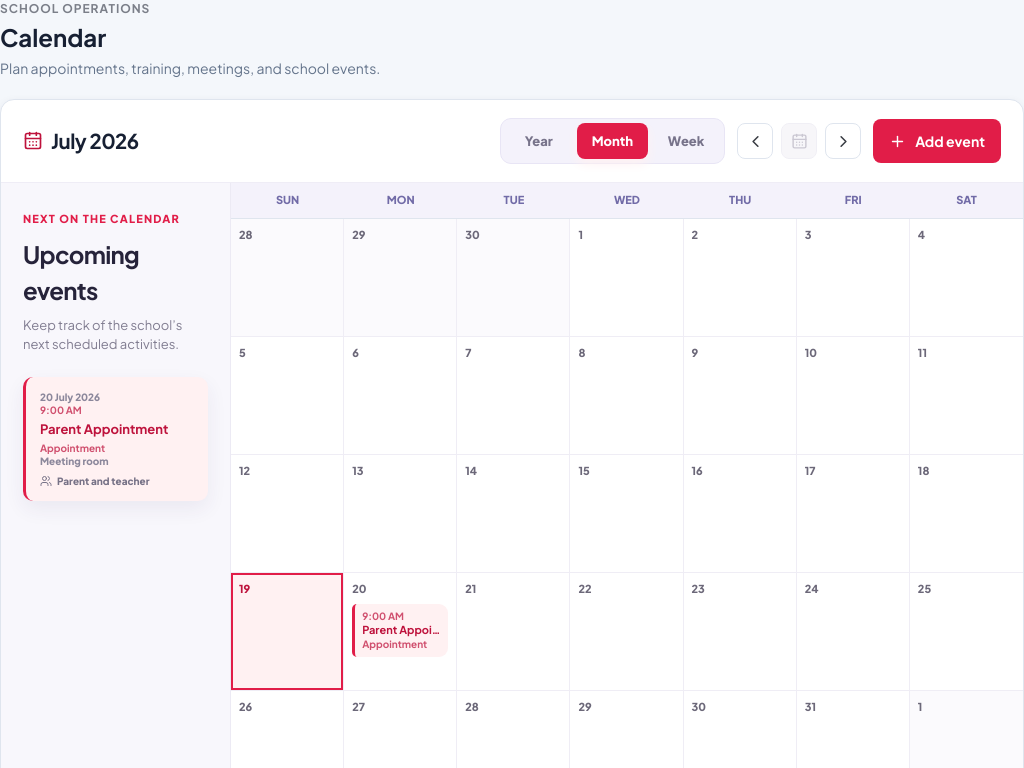
Test: CalendarPage › removes the sole visible event when an edit moves it outside the visible range
This screenshot has width=1024, height=768.
Click the button "9:00 AM Parent Appointment Appointment".
click(400, 631)  # box [352,604,448,657]
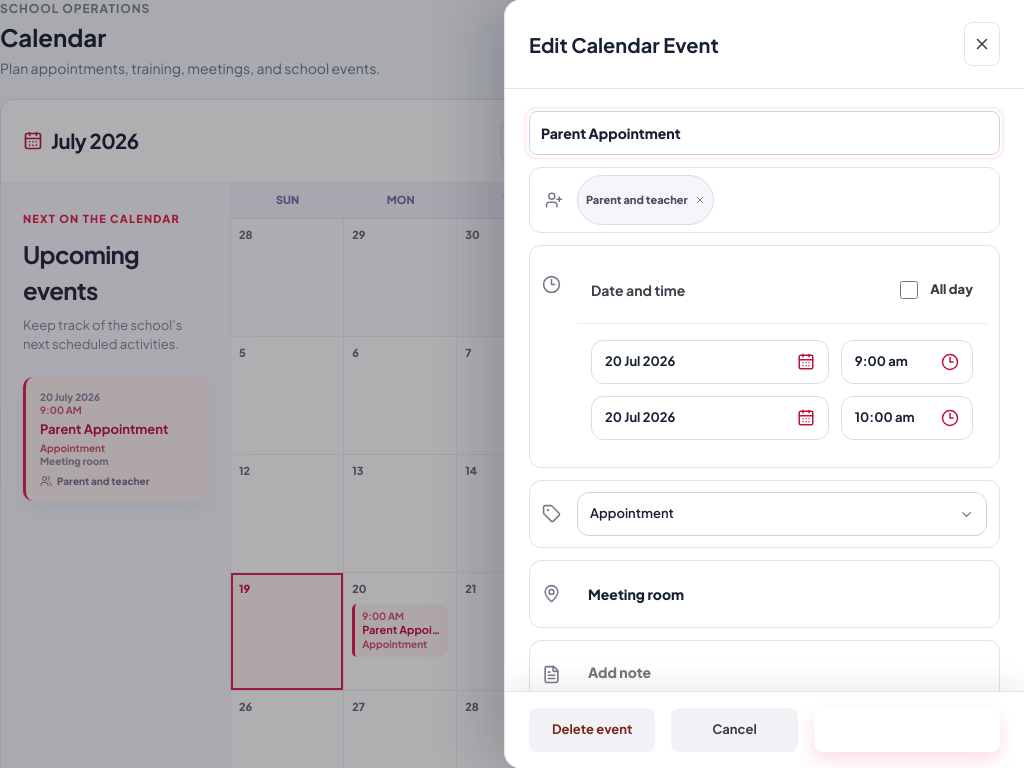
Click the button with aria-label "Start date".
click(710, 362)  # box [591,340,829,384]
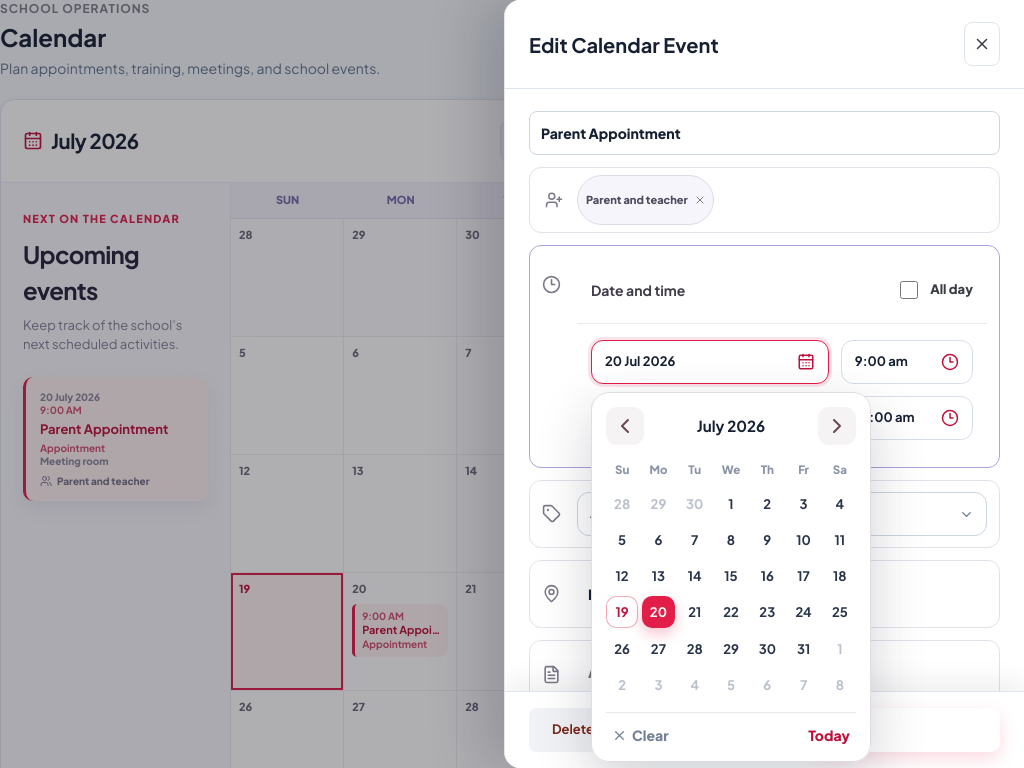
Click the button named "Next month".
click(837, 426)  # box [818,407,856,445]
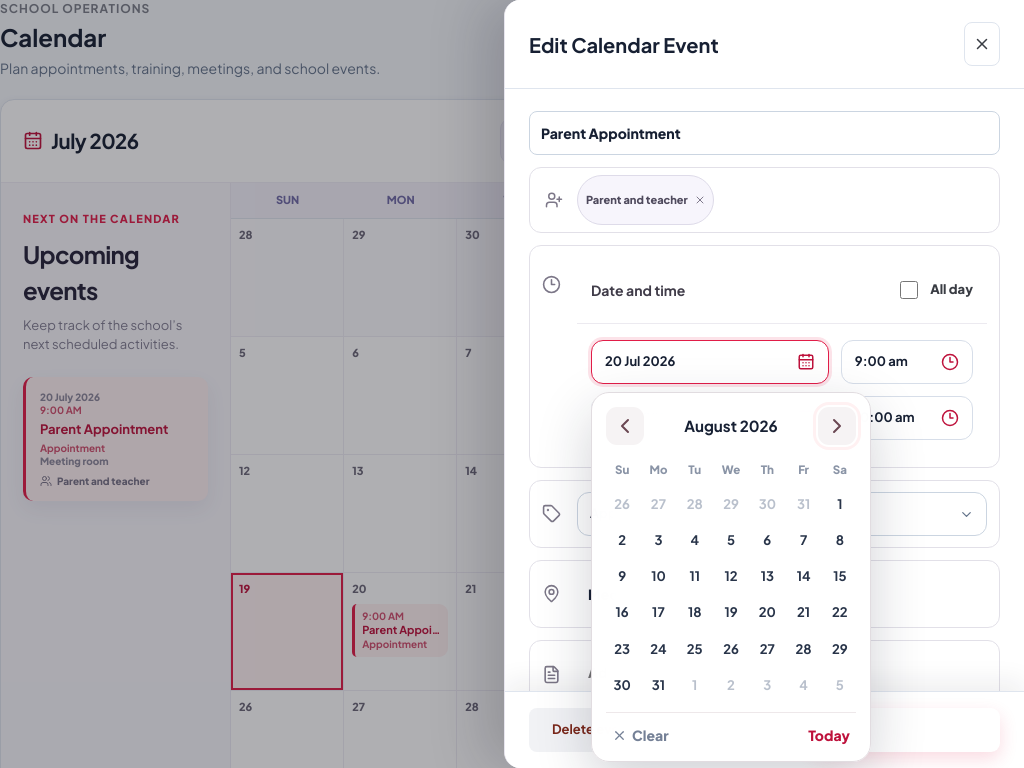
Click the button named "Next month".
click(837, 426)  # box [818,407,856,445]
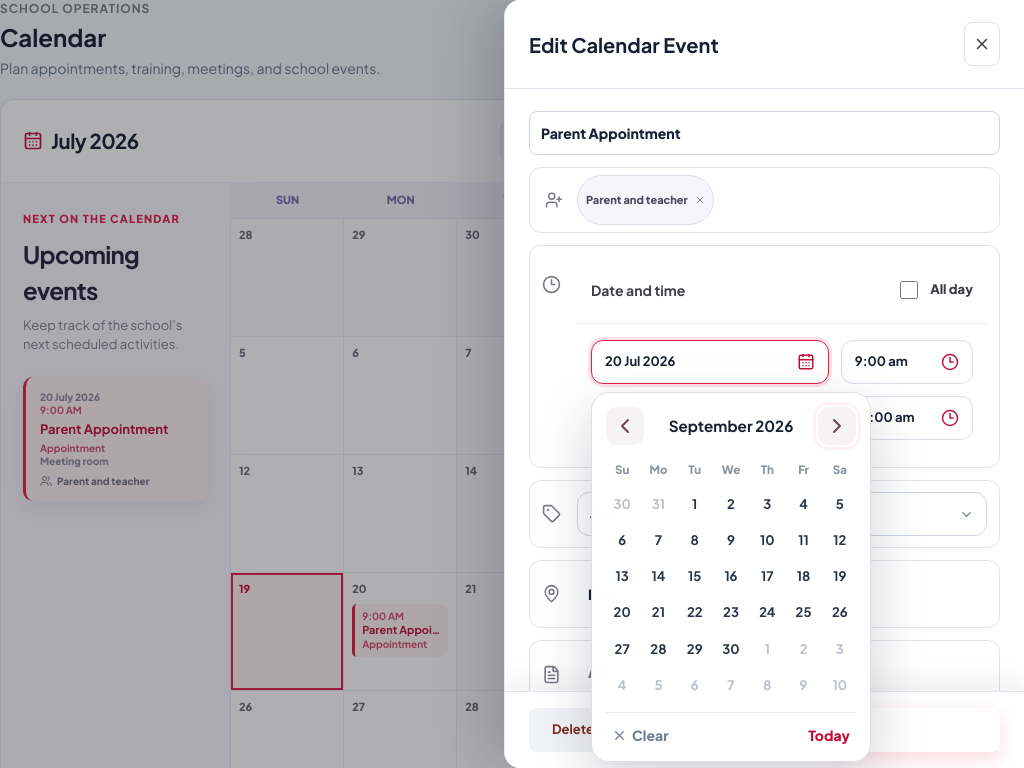
Click the button named "30 September 2026".
click(731, 649)  # box [715,632,747,665]
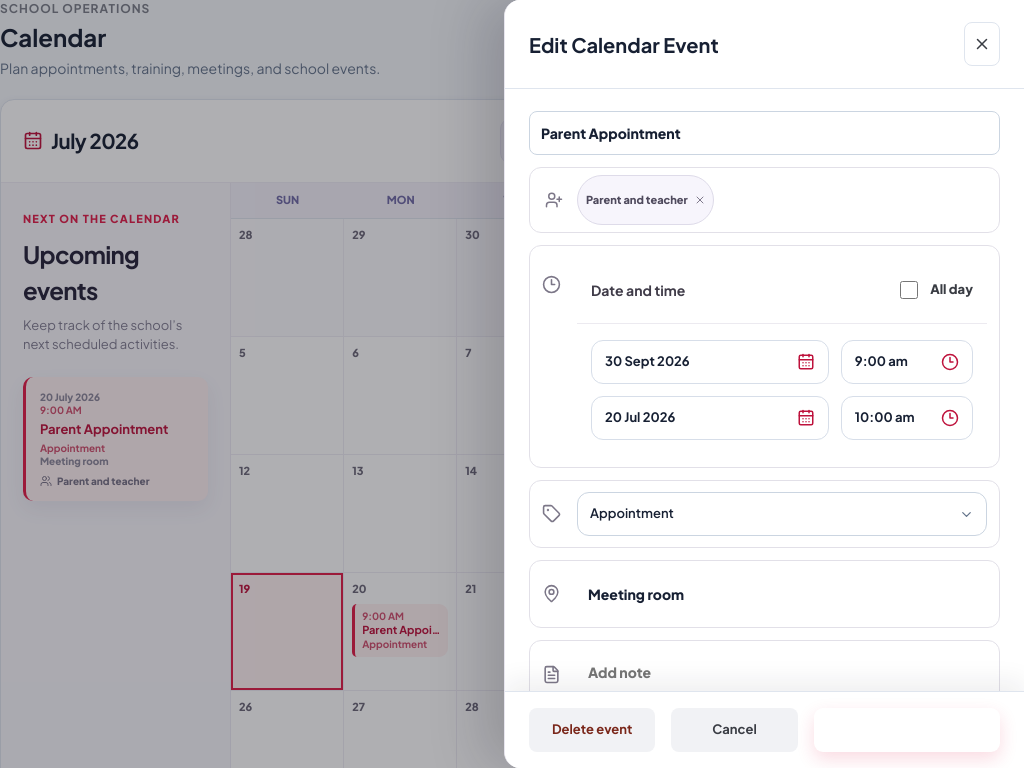
Click the button "Save changes".
click(907, 730)  # box [814,708,1000,752]
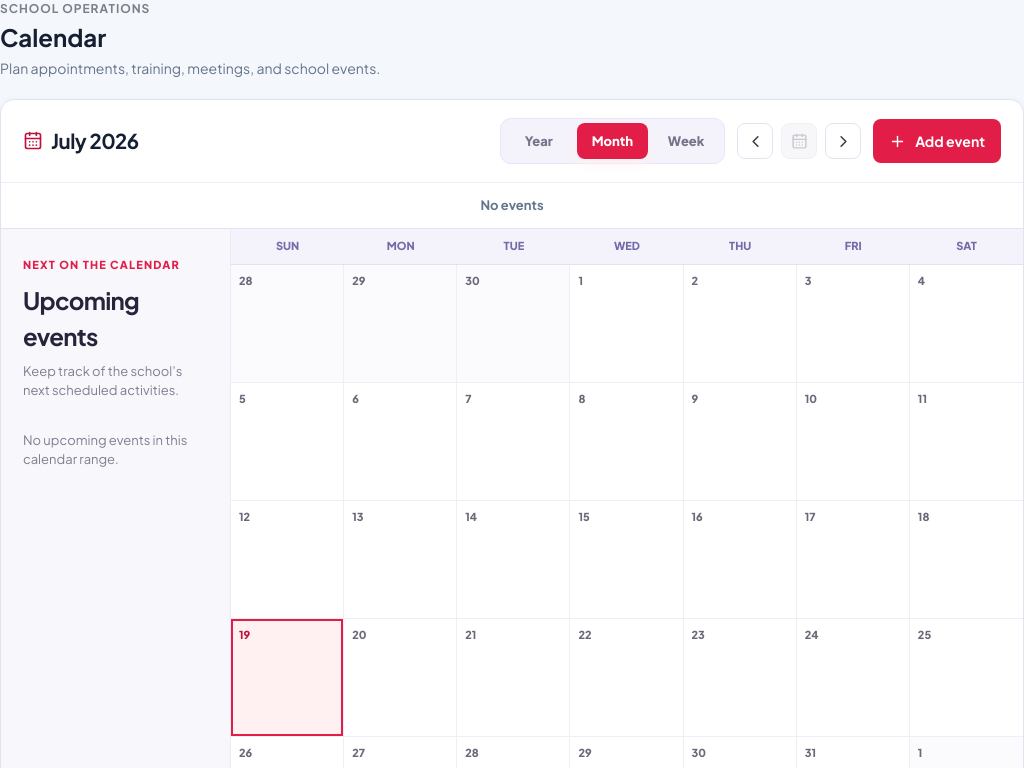
Expected: the dialog is gone
Expected: the text "No events" is shown, [1,184,1023,230]
Expected: the text "Parent Appointment" is gone
